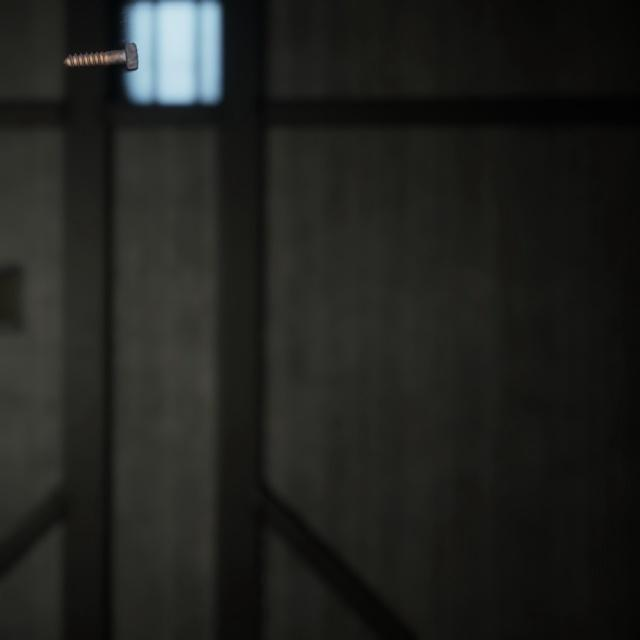bolt: (58, 28, 142, 65)
